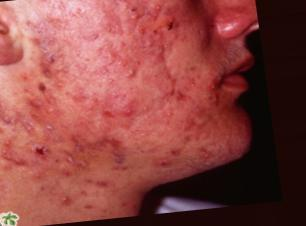Acne: (73, 0, 141, 38), (75, 108, 145, 135), (65, 144, 126, 174), (18, 70, 52, 106), (166, 65, 191, 102), (144, 18, 186, 38), (26, 54, 65, 74), (119, 59, 144, 82), (29, 136, 47, 166), (59, 189, 75, 208), (161, 158, 169, 171)
